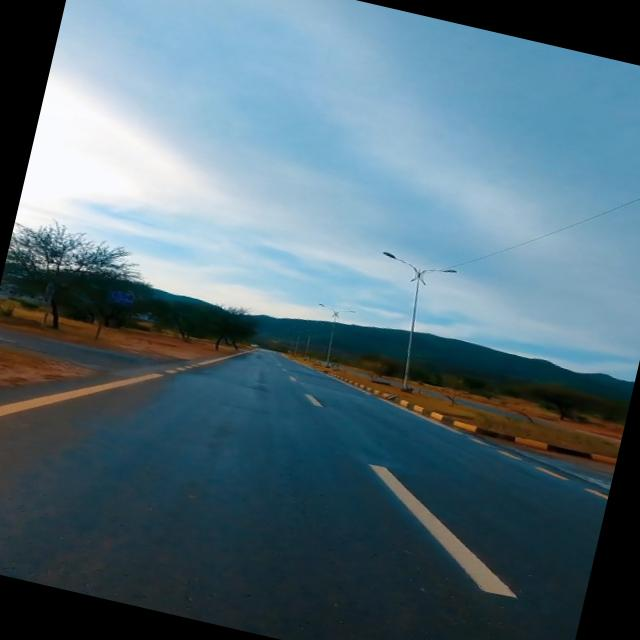asphalt: (0, 330, 612, 640)
grass: (284, 353, 621, 464), (0, 315, 253, 360), (0, 342, 98, 385)
